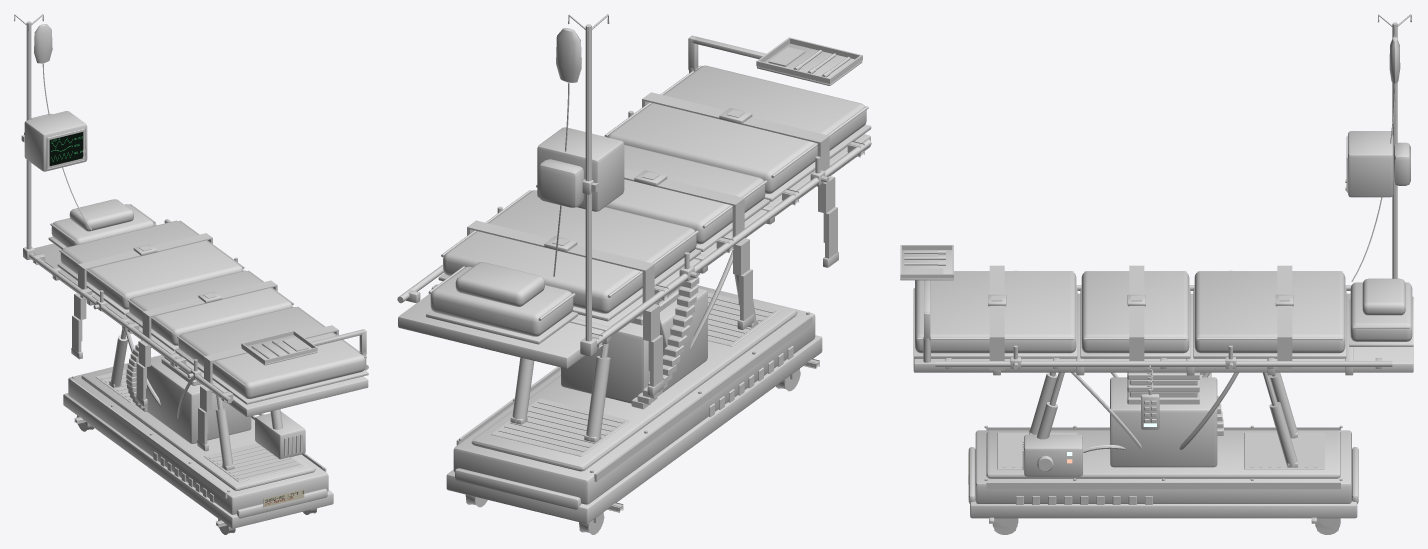
Rendered from SurgeryTableV2.fbx.
3 views of the same model, side by side, from view 1: azimuth 30°, elevation 25°; view 2: azimuth 150°, elevation 25°; view 3: azimuth 270°, elevation 25° (orthographic). The views are drawn at different scales.
Visible parts, largest first — view 1: BST_Base, BST_Pad_Legs, BST_Pad_Back, BST_Pad_Seat, BST_Column, BST_Frame, BST_Pad_Head, BST_Monitor, BST_Tray, BST_Rails, BST_PowerUnit, BST_Pistons (+11 smaller); view 2: BST_Base, BST_Pad_Legs, BST_Pad_Back, BST_Pad_Head, BST_Pad_Seat, BST_Frame, BST_Column, BST_Monitor, BST_Tray, BST_Rails, BST_BaseHazard, BST_Pistons (+11 smaller); view 3: BST_Base, BST_Pad_Legs, BST_Pad_Back, BST_Column, BST_Pad_Seat, BST_Frame, BST_Pad_Head, BST_Monitor, BST_BaseHazard, BST_Rails, BST_Pistons, BST_PowerUnit (+9 smaller).
Part boxes in pixels (<box>): BST_Base: <box>63,355,333,528</box>; BST_Pad_Legs: <box>175,307,368,404</box>; BST_Pad_Back: <box>57,220,244,314</box>; BST_Pad_Seat: <box>125,270,293,351</box>; BST_Column: <box>146,356,251,443</box>; BST_Frame: <box>31,224,368,416</box>; BST_Pad_Head: <box>48,199,155,249</box>; BST_Monitor: <box>21,111,87,171</box>; BST_Tray: <box>241,329,366,370</box>; BST_Rails: <box>29,219,368,403</box>; BST_PowerUnit: <box>255,411,305,459</box>; BST_Pistons: <box>109,329,282,470</box>; BST_Base: <box>446,285,822,523</box>; BST_Pad_Legs: <box>604,65,871,201</box>; BST_Pad_Back: <box>438,190,700,321</box>; BST_Pad_Head: <box>426,262,577,344</box>; BST_Pad_Seat: <box>536,144,769,251</box>; BST_Frame: <box>398,134,870,368</box>; BST_Column: <box>561,286,707,403</box>; BST_Monitor: <box>537,127,624,211</box>; BST_Tray: <box>688,35,862,85</box>; BST_Rails: <box>397,110,871,348</box>; BST_BaseHazard: <box>456,316,812,481</box>; BST_Pistons: <box>510,262,758,442</box>; BST_Base: <box>968,425,1358,518</box>; BST_Pad_Legs: <box>913,271,1077,358</box>; BST_Pad_Back: <box>1193,271,1346,358</box>; BST_Column: <box>1110,372,1217,467</box>; BST_Pad_Seat: <box>1080,271,1190,358</box>; BST_Frame: <box>913,293,1413,375</box>; BST_Pad_Head: <box>1349,278,1413,346</box>; BST_Monitor: <box>1345,131,1410,197</box>; BST_BaseHazard: <box>986,427,1340,489</box>; BST_Rails: <box>935,270,1392,368</box>; BST_Pistons: <box>1029,372,1298,467</box>; BST_PowerUnit: <box>1022,434,1125,476</box>.
Bounding box in the file's own units: 0.7513 × 1.86 × 1.91.
